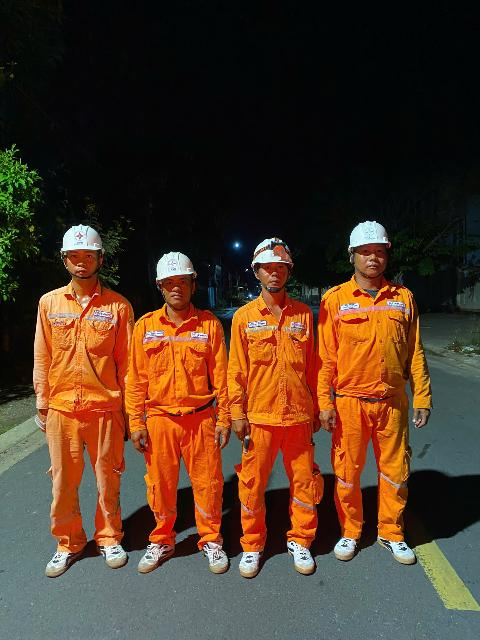helmet: (39, 214, 107, 261), (254, 216, 293, 272), (341, 214, 398, 251), (148, 242, 194, 284)
shoes: (137, 535, 179, 579), (40, 539, 87, 577), (279, 537, 318, 580), (380, 529, 418, 571), (199, 531, 232, 575), (91, 535, 132, 569), (329, 527, 365, 565), (237, 538, 264, 581)
